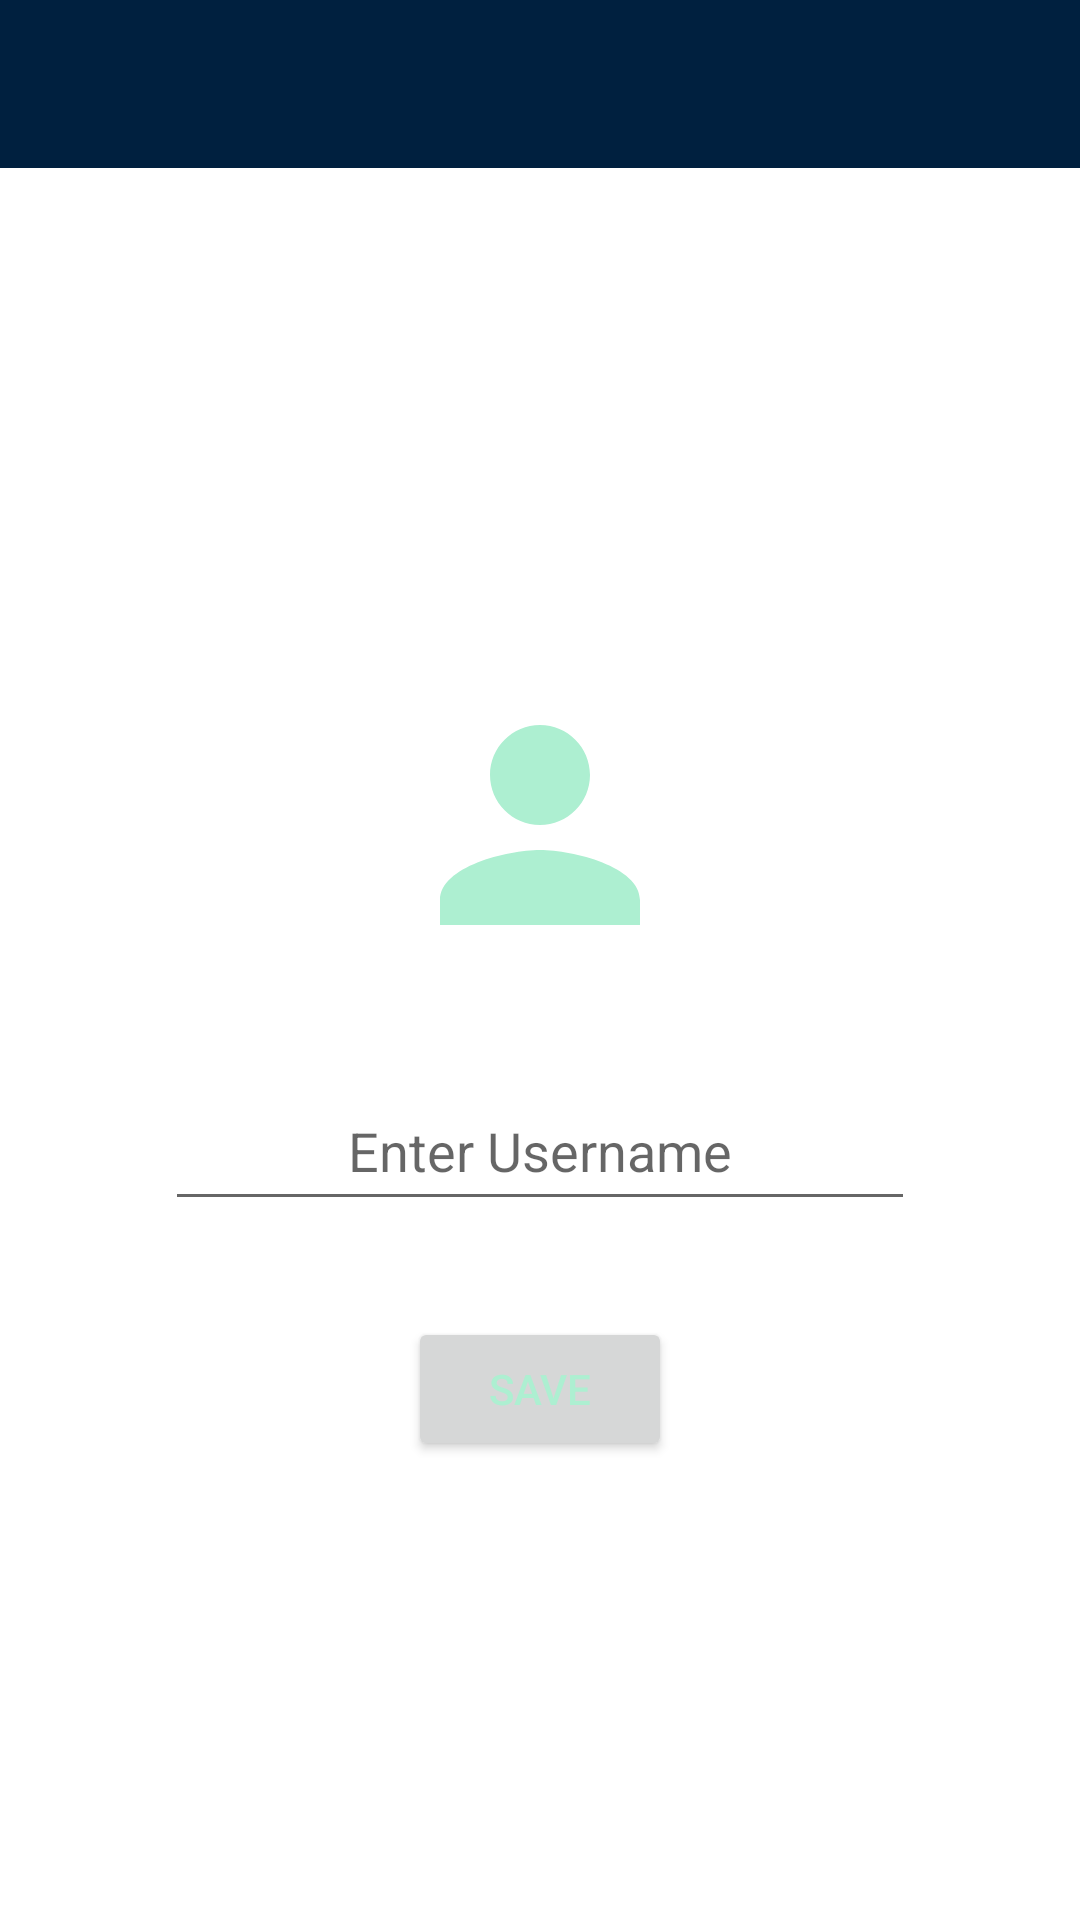

Locate icon controls on the screen. Image size 1080w x 1920h, boxes as box(x1, y1, x2, y2).
person: box(440, 725, 640, 925)
